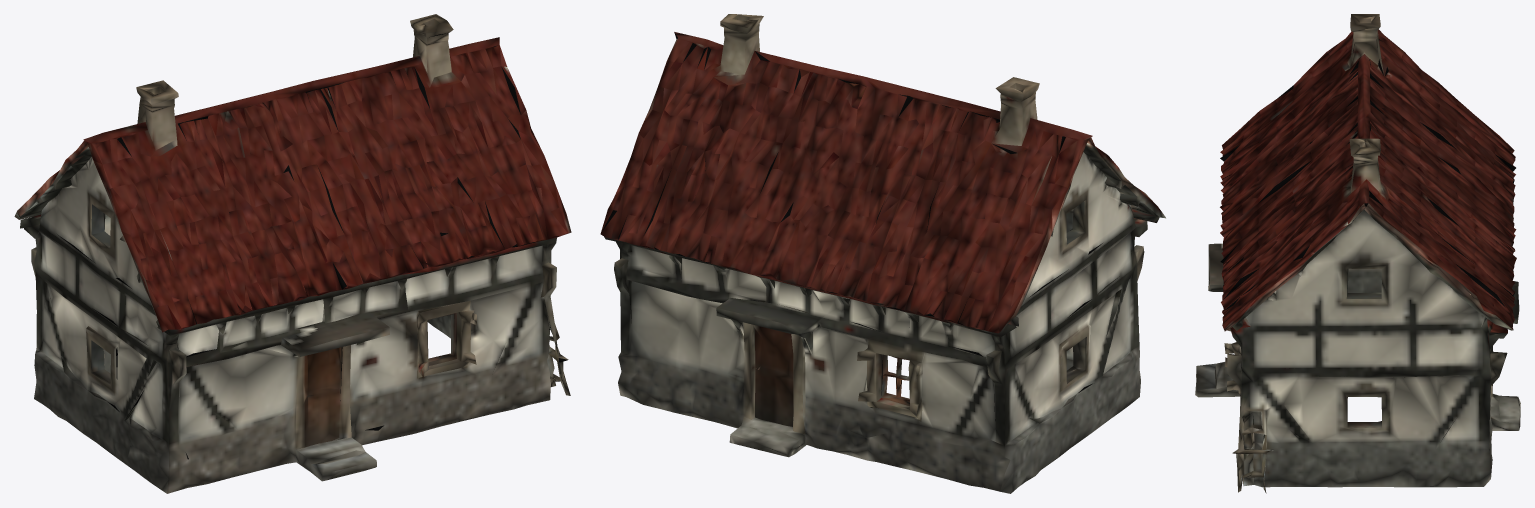
The model's file is house.glb.
3 renders of one model, left to right at view 1: azimuth 30°, elevation 25°; view 2: azimuth 150°, elevation 25°; view 3: azimuth 270°, elevation 25°, orthographic. The views are drawn at different scales.
Visible parts, largest first — view 1: Mesh_0.001; view 2: Mesh_0.001; view 3: Mesh_0.001.
Boxes of the visible parts, x1,y1,x2,y2 form: Mesh_0.001: (14,14,571,493); Mesh_0.001: (600,14,1165,493); Mesh_0.001: (1195,14,1520,493).
Size of the model in its own units: 1.9 by 1.49 by 1.38.
1 material, 1 textured.
